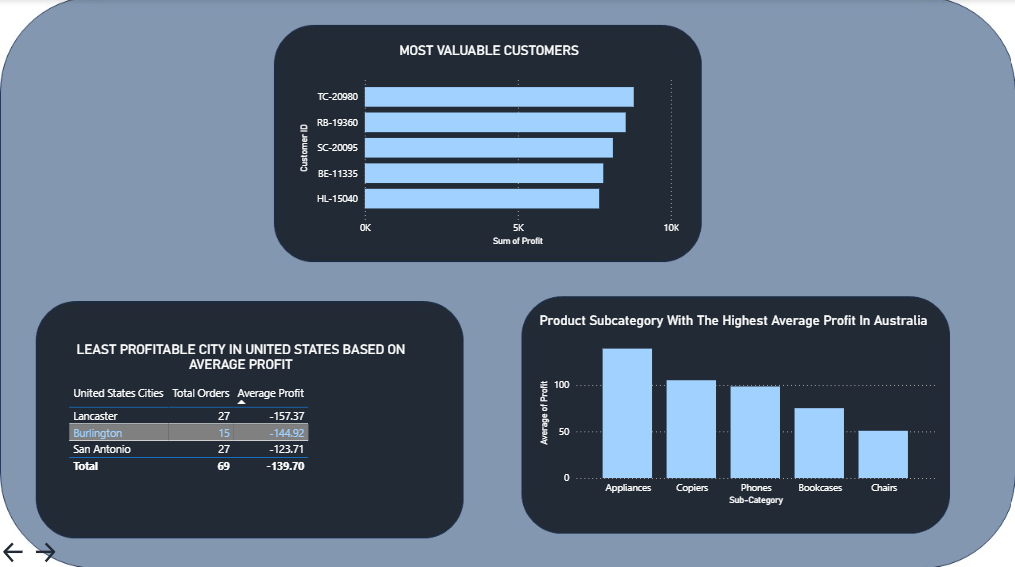

The dashboard page shown, as its layout file describes it:
{"tool":"powerbi","page":{"name":"Page 2","canvas":[1280,720],"ordinal":1},"visuals":[{"type":"tableEx","title":"LEAST PROFITABLE CITY IN UNITED STATES BASED ON AVERAGE PROFIT","fields":{"Values":["United States.United States Cities","Measure Table.Total Orders","Measure Table.Average Profit"]},"box":[81.3,430.9,444.1,211.7],"z":0},{"type":"clusteredColumnChart","title":"Product Subcategory With The Highest Average Profit In Australia","fields":{"Category":["Orders.Sub-Category"],"Y":["Avg(Orders.Profit)"]},"box":[674.7,395,508.4,247.6],"z":1000},{"type":"barChart","title":"MOST VALUABLE CUSTOMERS","fields":{"Category":["Orders.Customer ID"],"Y":["Sum(Orders.Profit)"]},"box":[372.3,54.8,487.6,260.8],"z":2000},{"type":"actionButton","box":[0,680.3,39.7,34],"z":3000},{"type":"actionButton","box":[39.7,680.3,39.7,34],"z":4000}]}

Visuals, with their boxes in screenshot pixels (x1, y1, x2, y2), scaled from the page's 1280x720 canvas onto the 1015x567 screenshot:
"LEAST PROFITABLE CITY IN UNITED STATES BASED ON AVERAGE PROFIT" tableEx: {"left": 64, "top": 339, "right": 417, "bottom": 506}
"Product Subcategory With The Highest Average Profit In Australia" clusteredColumnChart: {"left": 535, "top": 311, "right": 938, "bottom": 506}
"MOST VALUABLE CUSTOMERS" barChart: {"left": 295, "top": 43, "right": 682, "bottom": 249}
actionButton: {"left": 0, "top": 536, "right": 31, "bottom": 563}
actionButton: {"left": 31, "top": 536, "right": 63, "bottom": 563}
